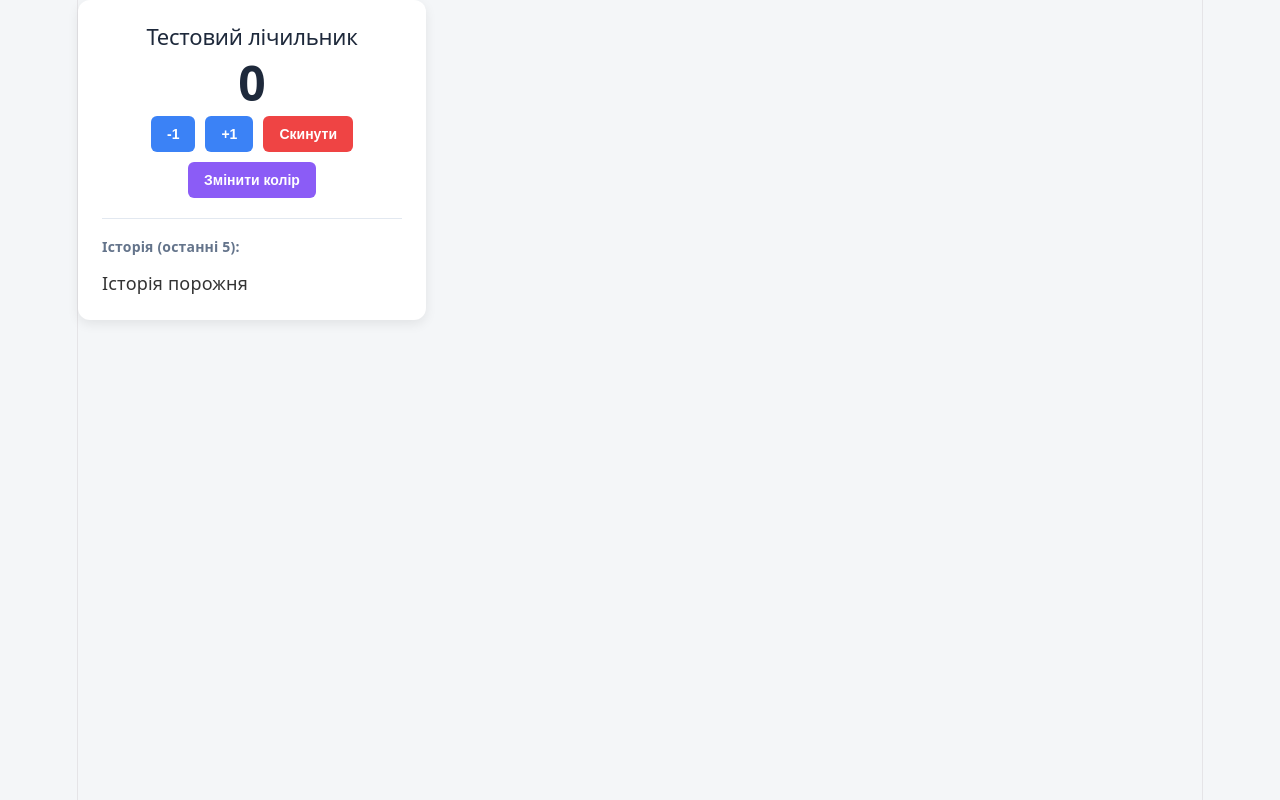
Scenario: Counter Component › додавання значень у список історії та обмеження до 5 елементів
Click the button "+1": (229, 134) [205,116,253,152]
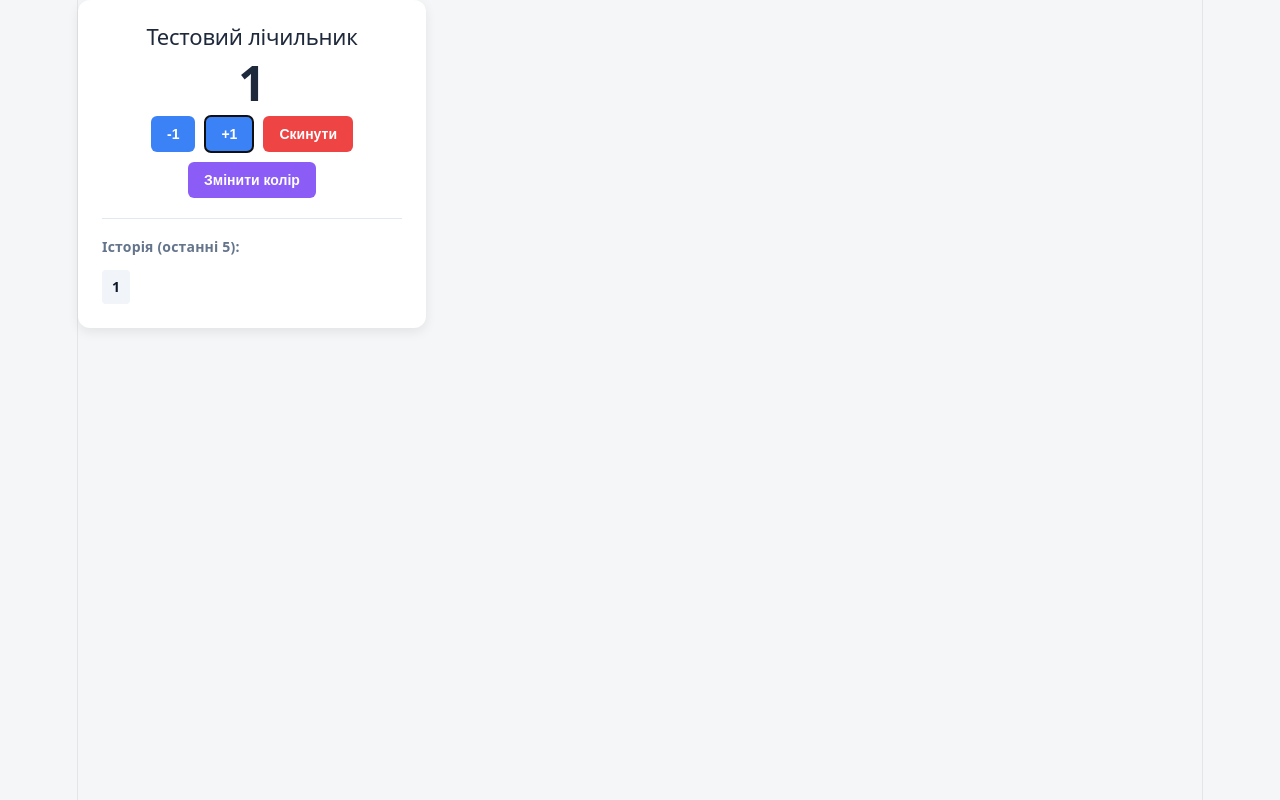
Click the button "+1": (229, 134) [205,116,253,152]
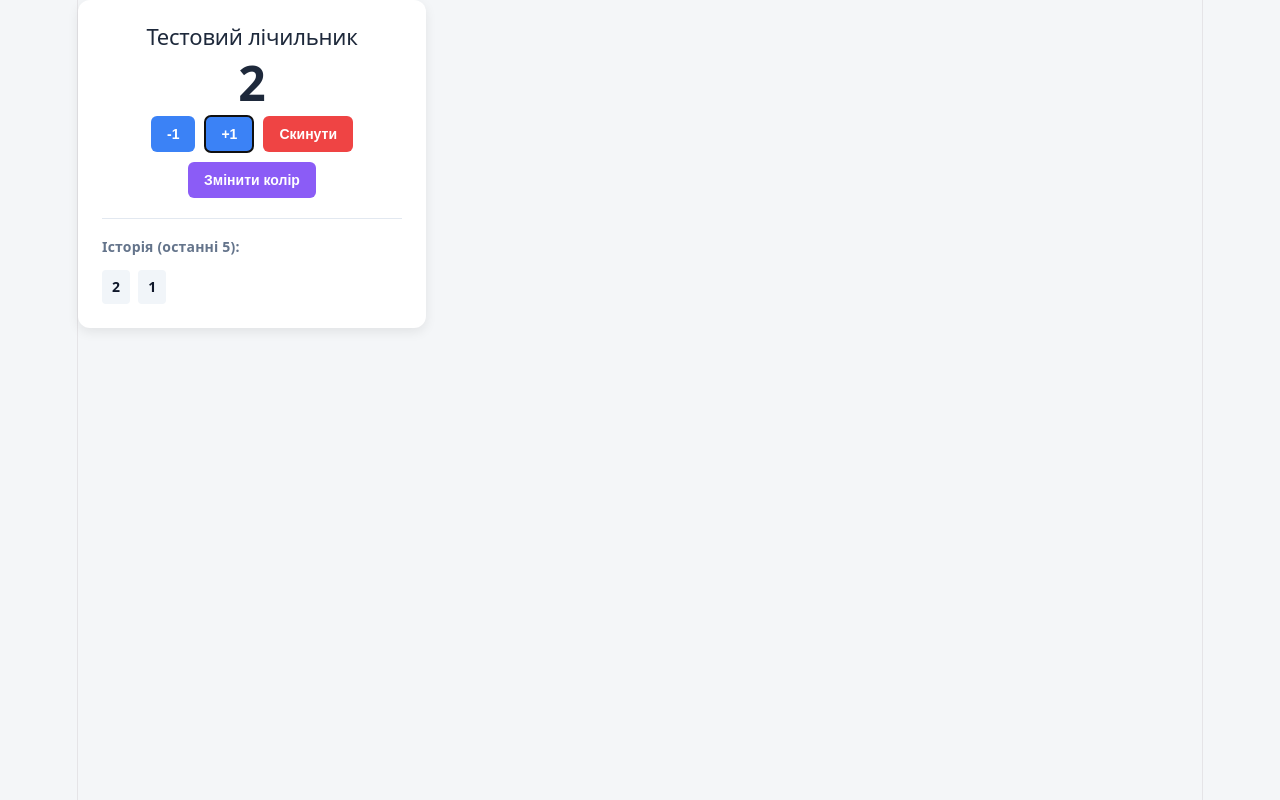
Click the button "+1": (229, 134) [205,116,253,152]
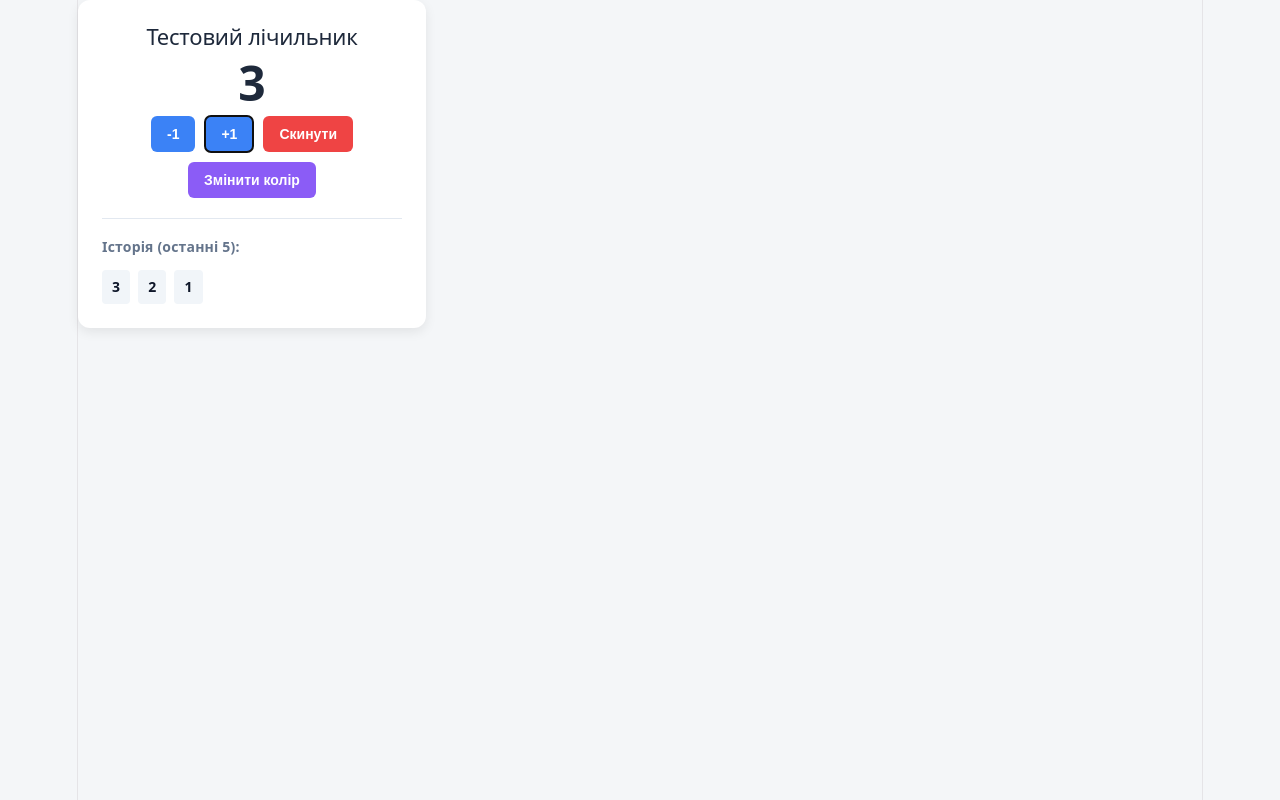
Click the button "+1": (229, 134) [205,116,253,152]
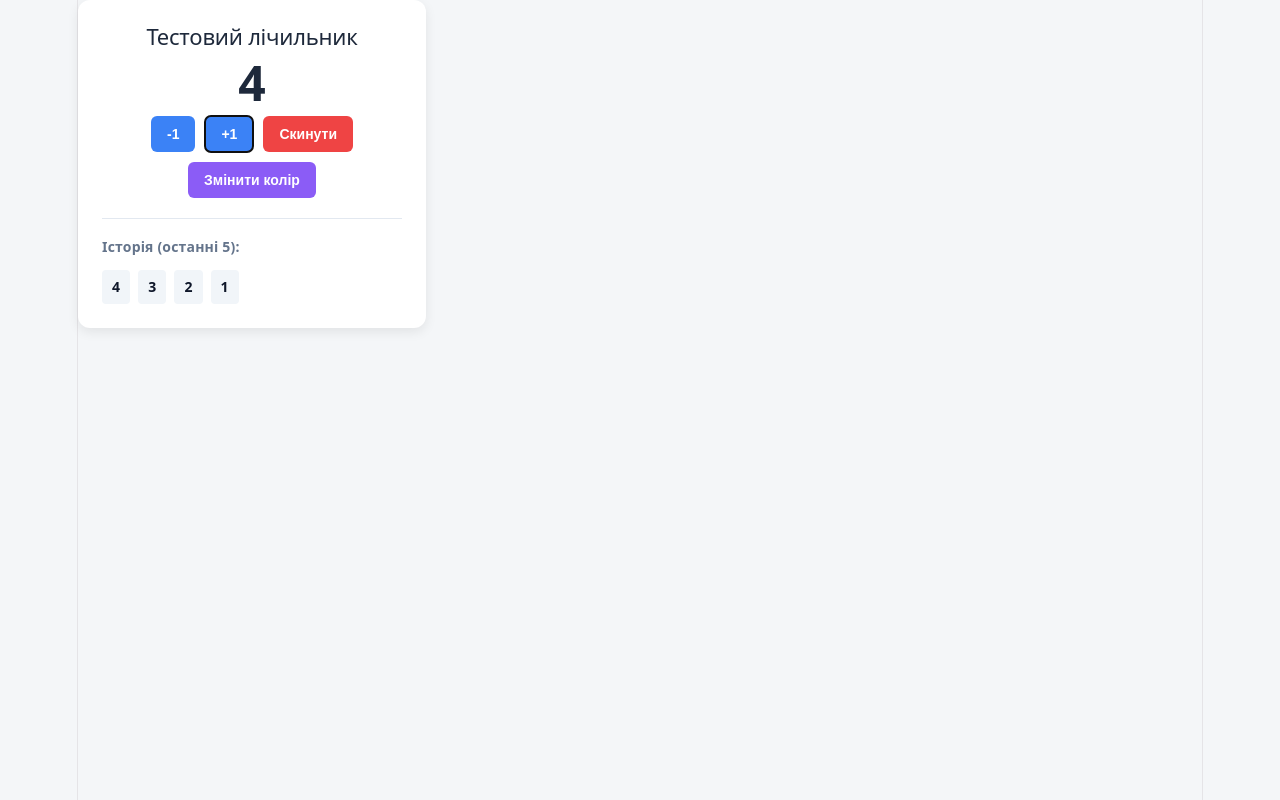
Click the button "+1": (229, 134) [205,116,253,152]
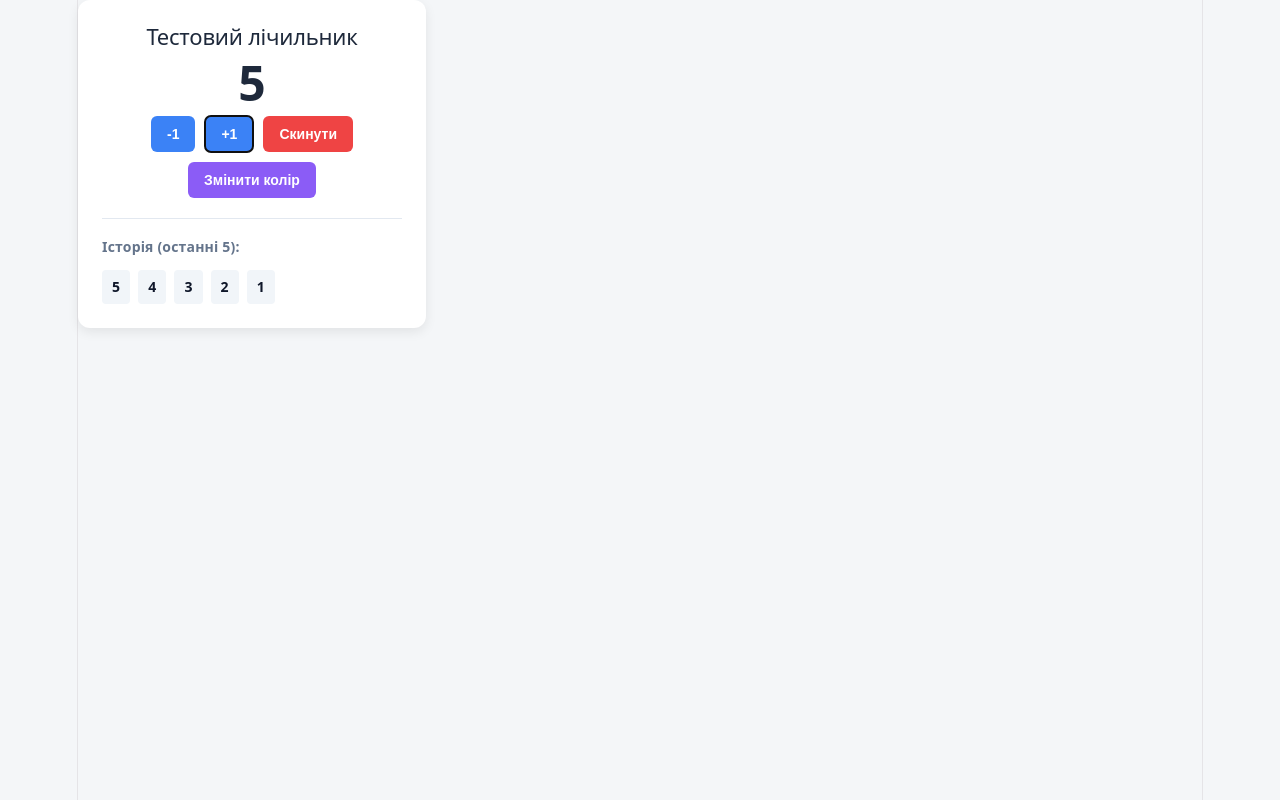
Click the button "+1": (229, 134) [205,116,253,152]
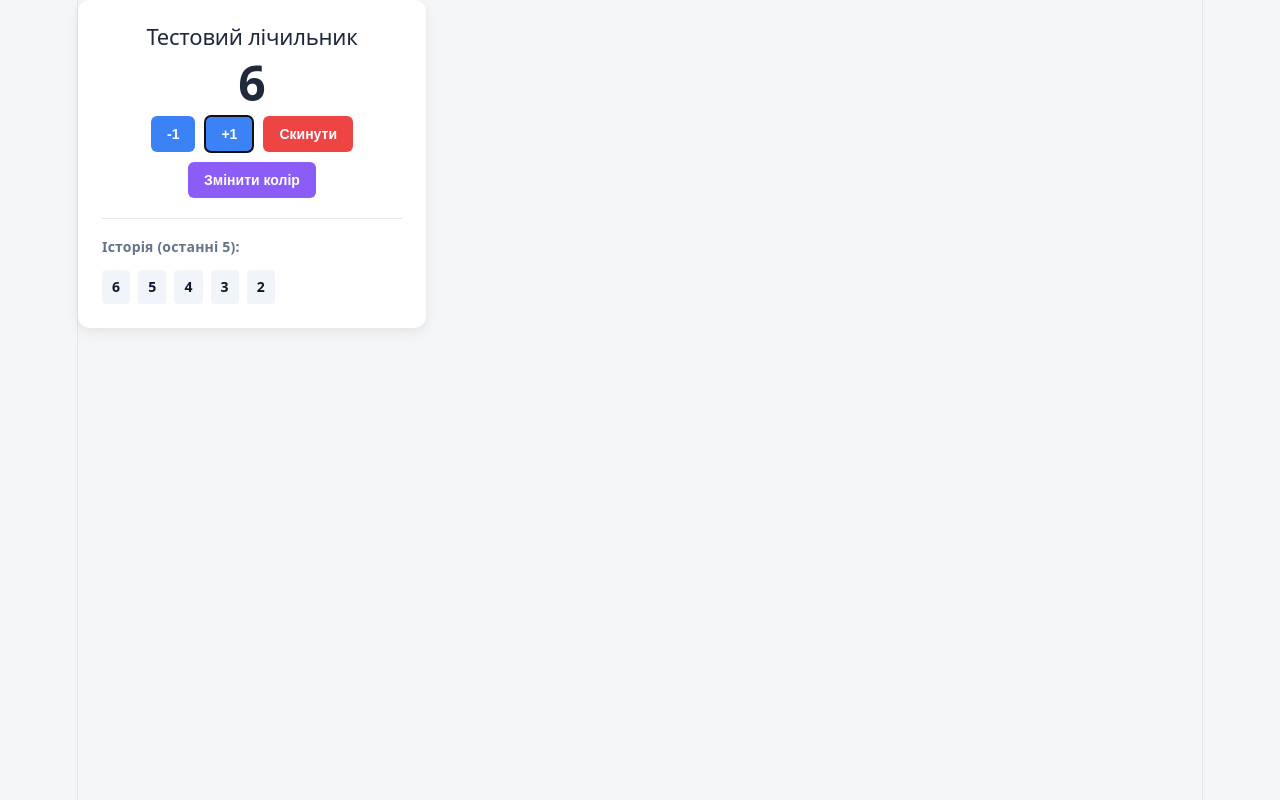
Now the number of list items is 5, box [102,270,130,304]; [138,270,166,304]; [174,270,203,304]; [211,270,239,304]; [247,270,275,304]
Now the list item "6" is shown, box [102,270,130,304]
Now the list item "2" is shown, box [247,270,275,304]
